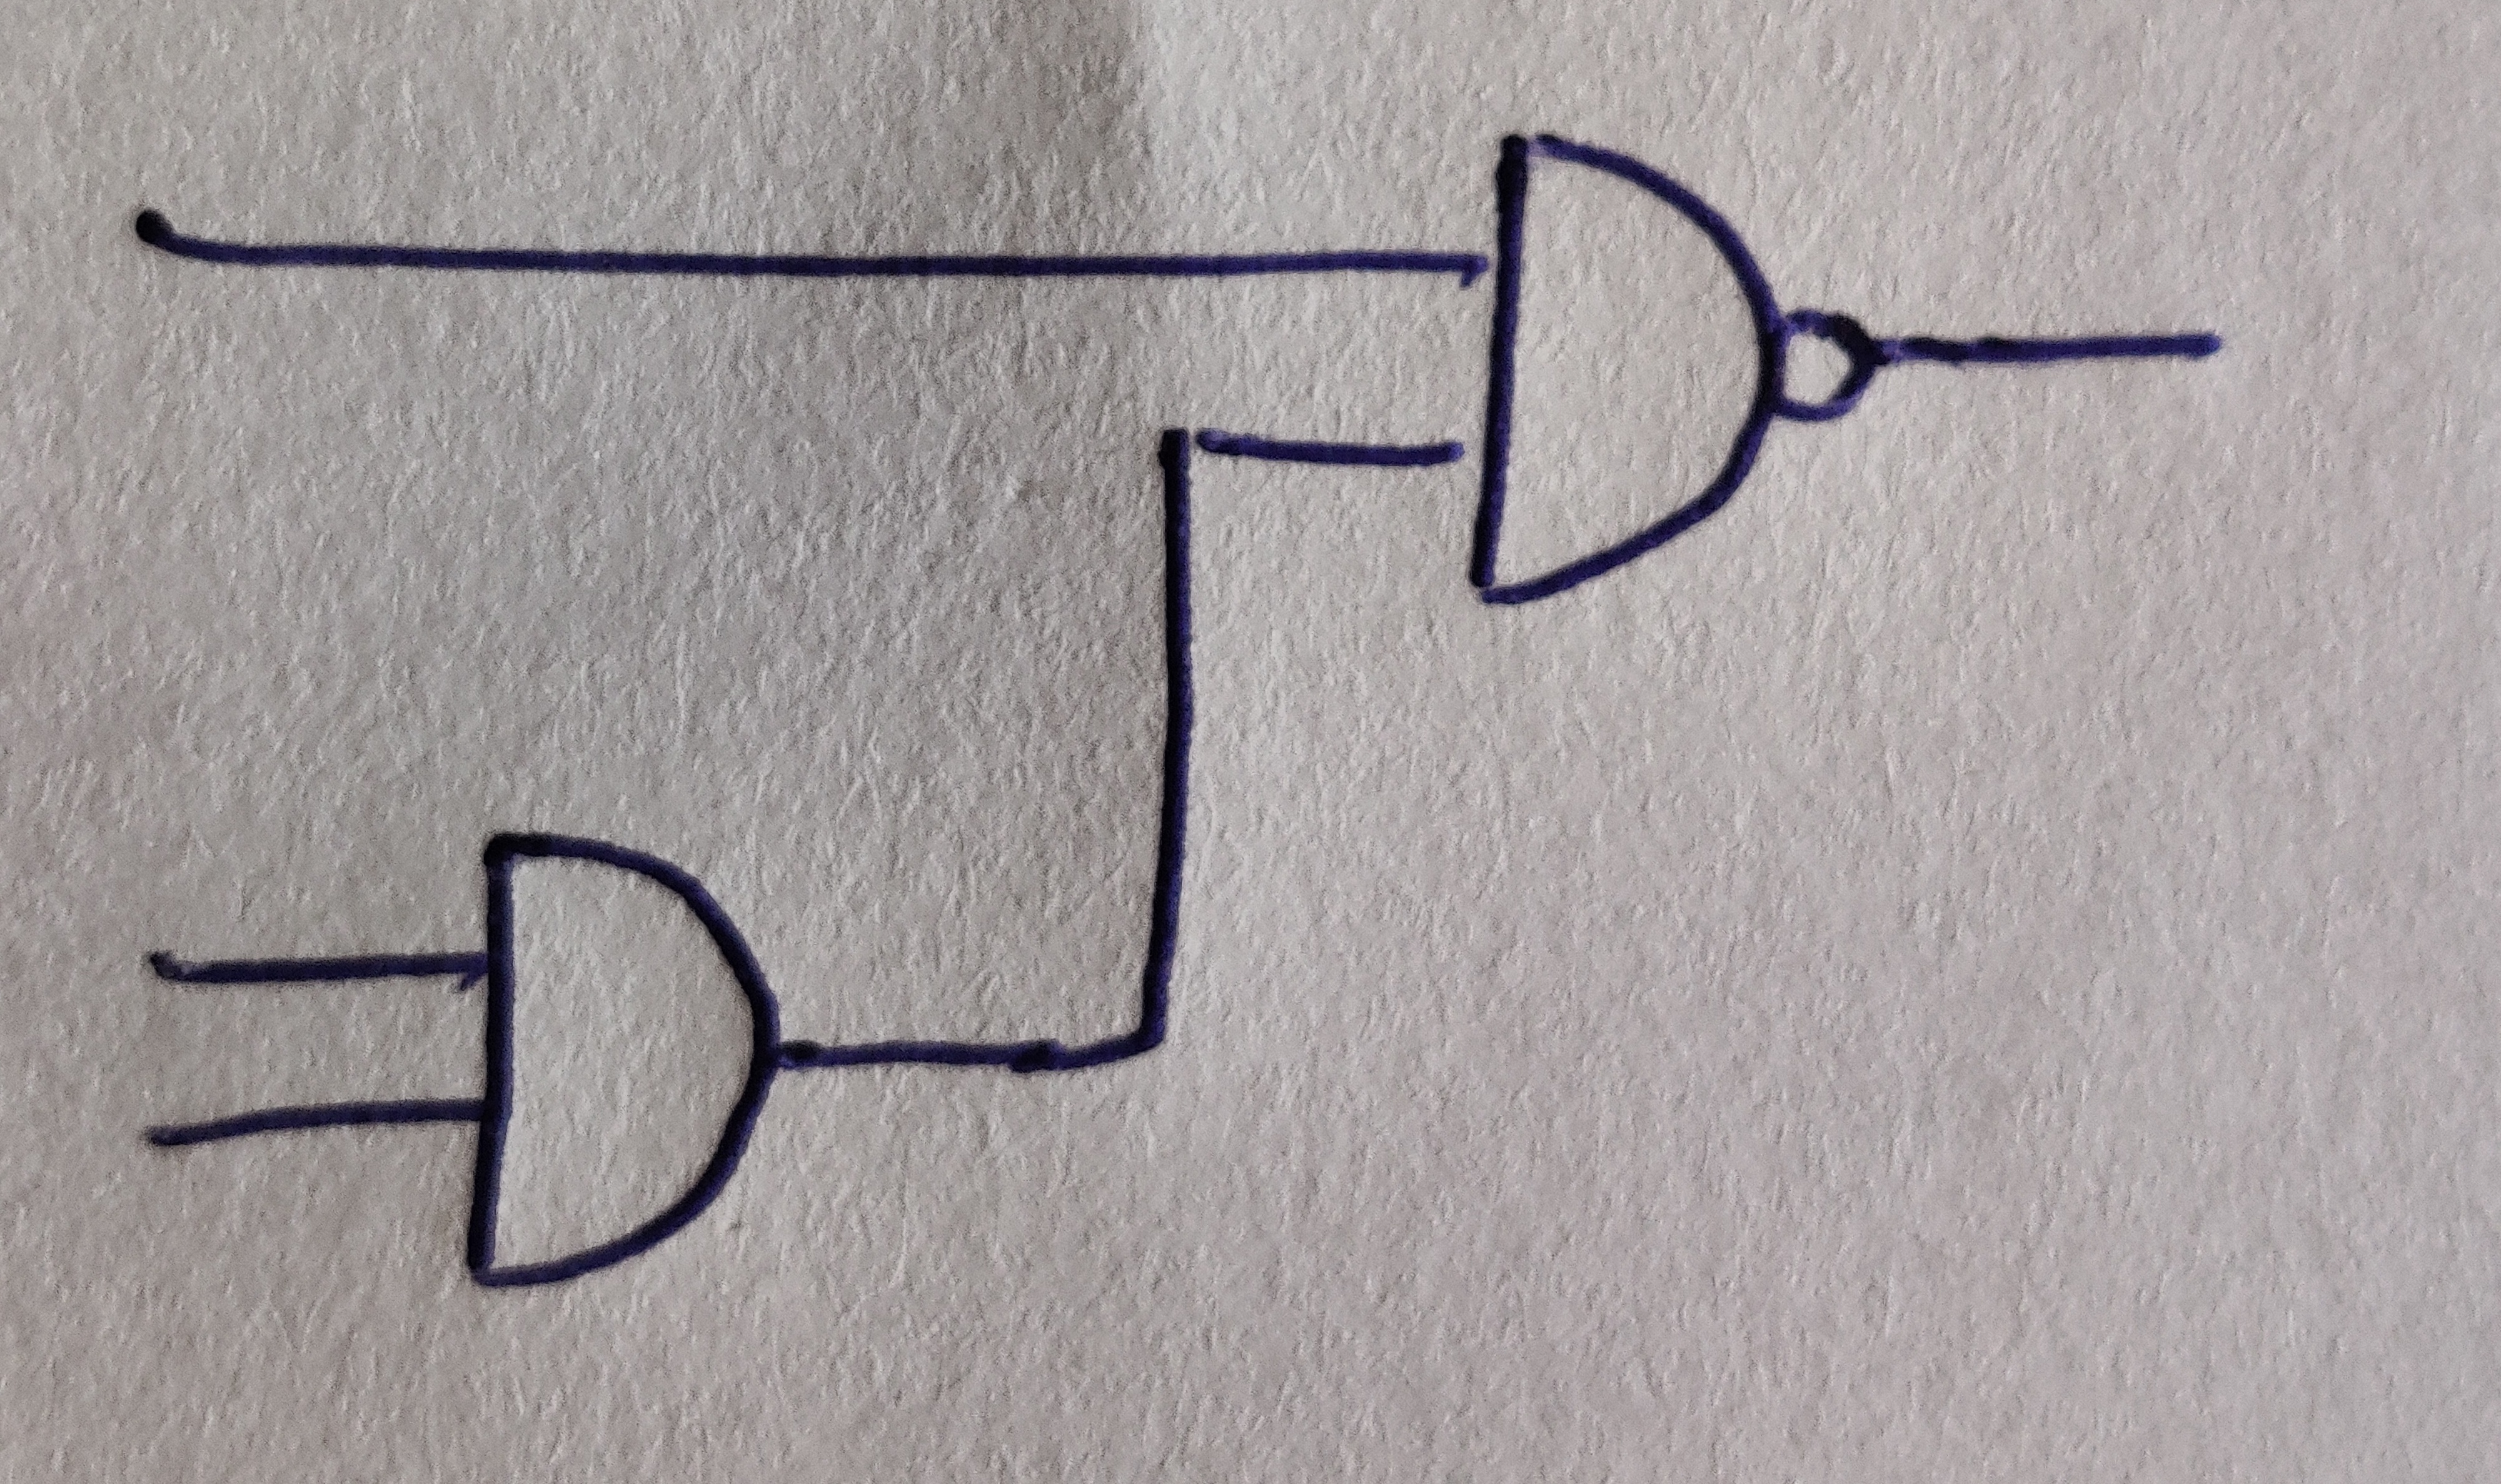and: (1468, 136, 1787, 602), (465, 832, 781, 1290)
not: (1770, 309, 1876, 420)
